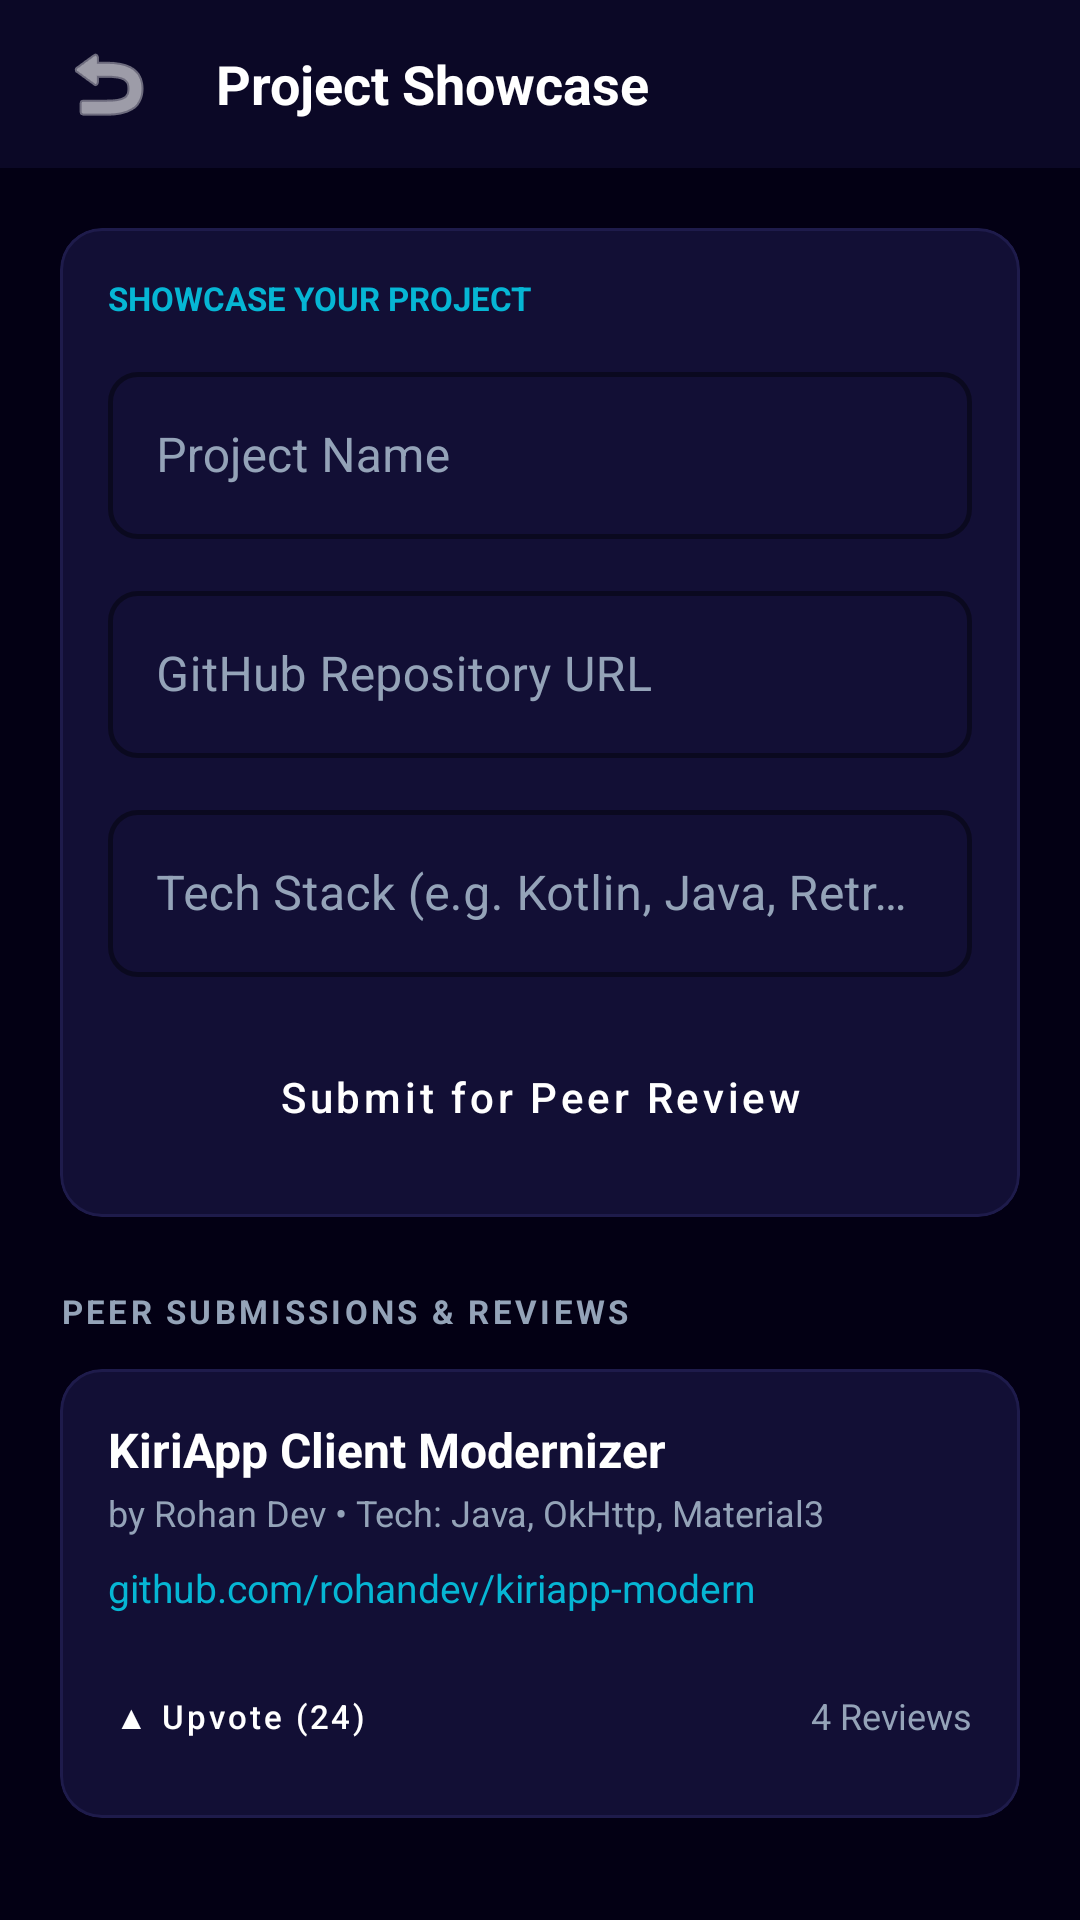

Named icons in this screenshot (1080×1920) and their centers, (x,y):
Back: (109,84)
